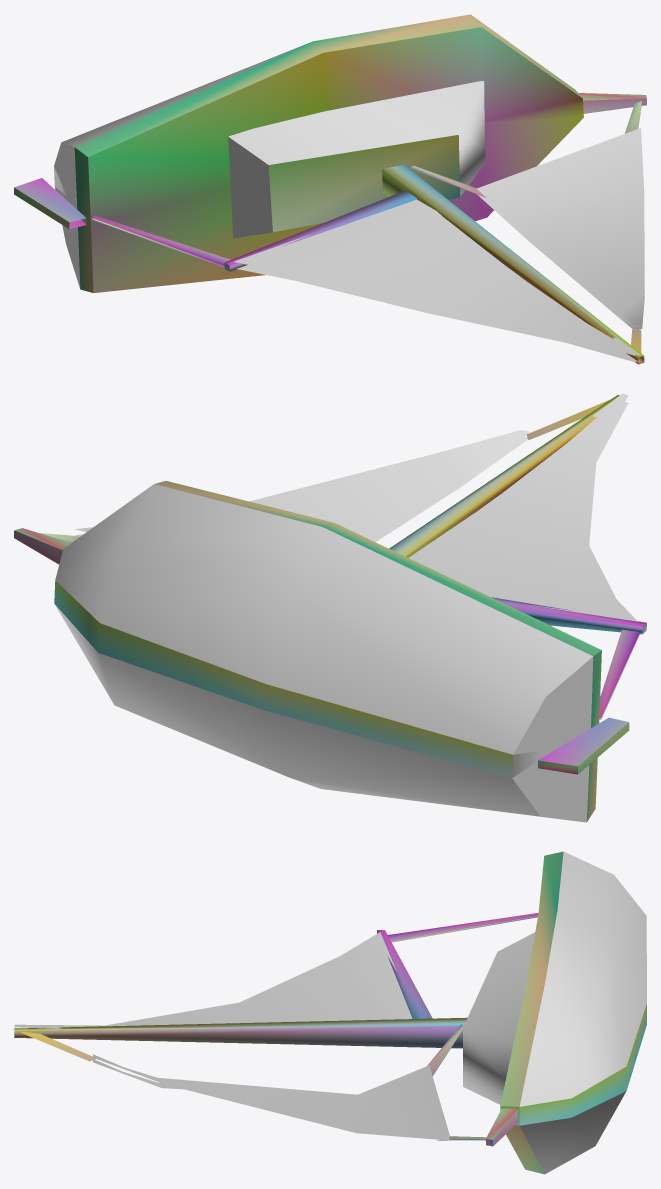
File: Boat_Village_Sailing_ref.glb
3 renders of one model, top to bottom at view 1: azimuth 30°, elevation 25°; view 2: azimuth 150°, elevation 25°; view 3: azimuth 270°, elevation 25°, orthographic. The views are drawn at different scales.
Parts seen in each view (by area): view 1: MeshNode_0, MeshNode_1; view 2: MeshNode_1, MeshNode_0; view 3: MeshNode_1, MeshNode_0.
Part boxes in pixels (x1,y1,x2,y2): MeshNode_0: (14, 14, 646, 364); MeshNode_1: (54, 43, 644, 361); MeshNode_1: (55, 393, 637, 822); MeshNode_0: (14, 395, 646, 821); MeshNode_1: (14, 852, 646, 1174); MeshNode_0: (14, 851, 646, 1174).
Bounding box in the file's own units: 36.35 × 13.99 × 38.43.
